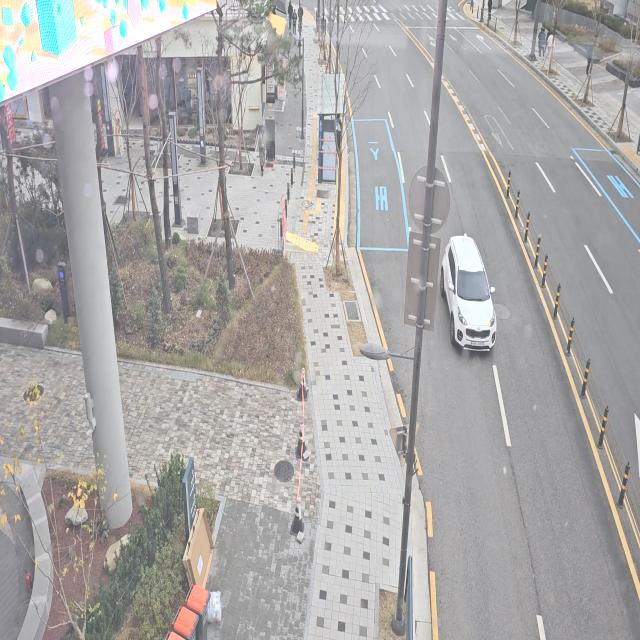Car: (438, 221, 502, 360)
